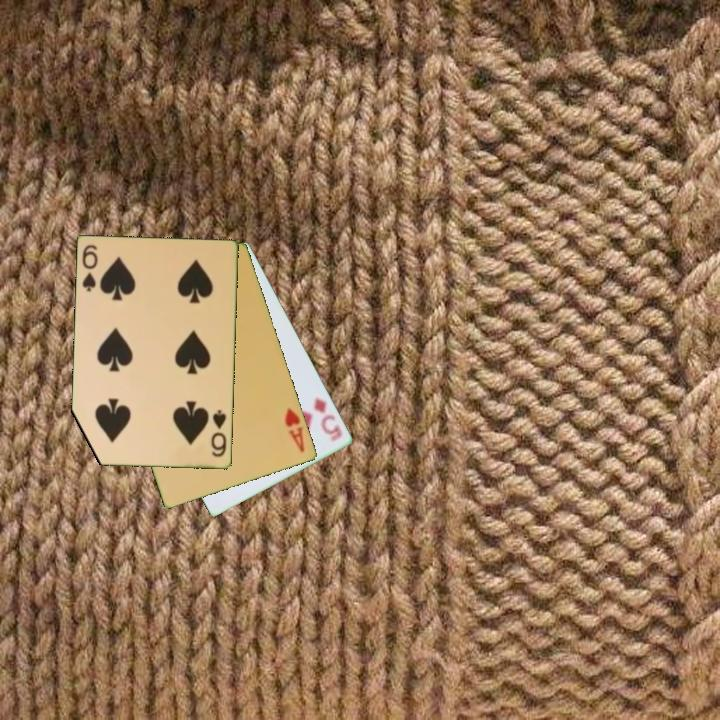5d: (311, 393, 344, 445)
6s: (79, 241, 101, 295), (208, 407, 230, 460)
Ah: (281, 404, 308, 455)
